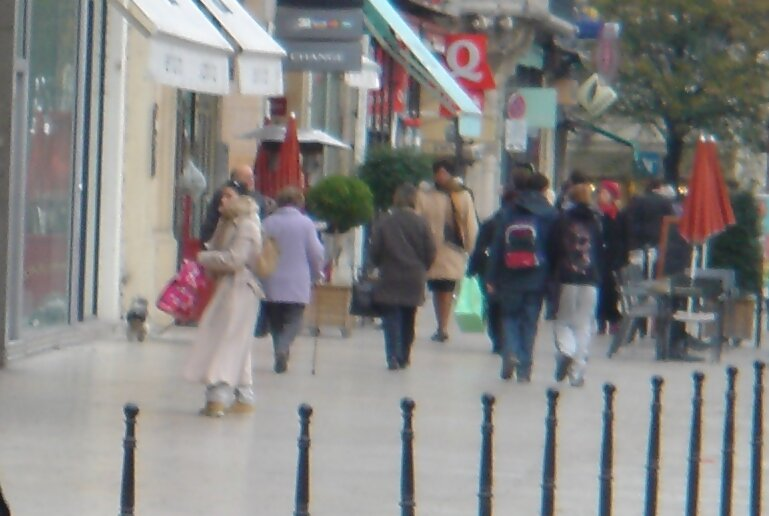person: (196, 171, 270, 423), (485, 171, 556, 387), (549, 173, 606, 387), (262, 184, 326, 367), (418, 160, 479, 346), (370, 182, 429, 371)
